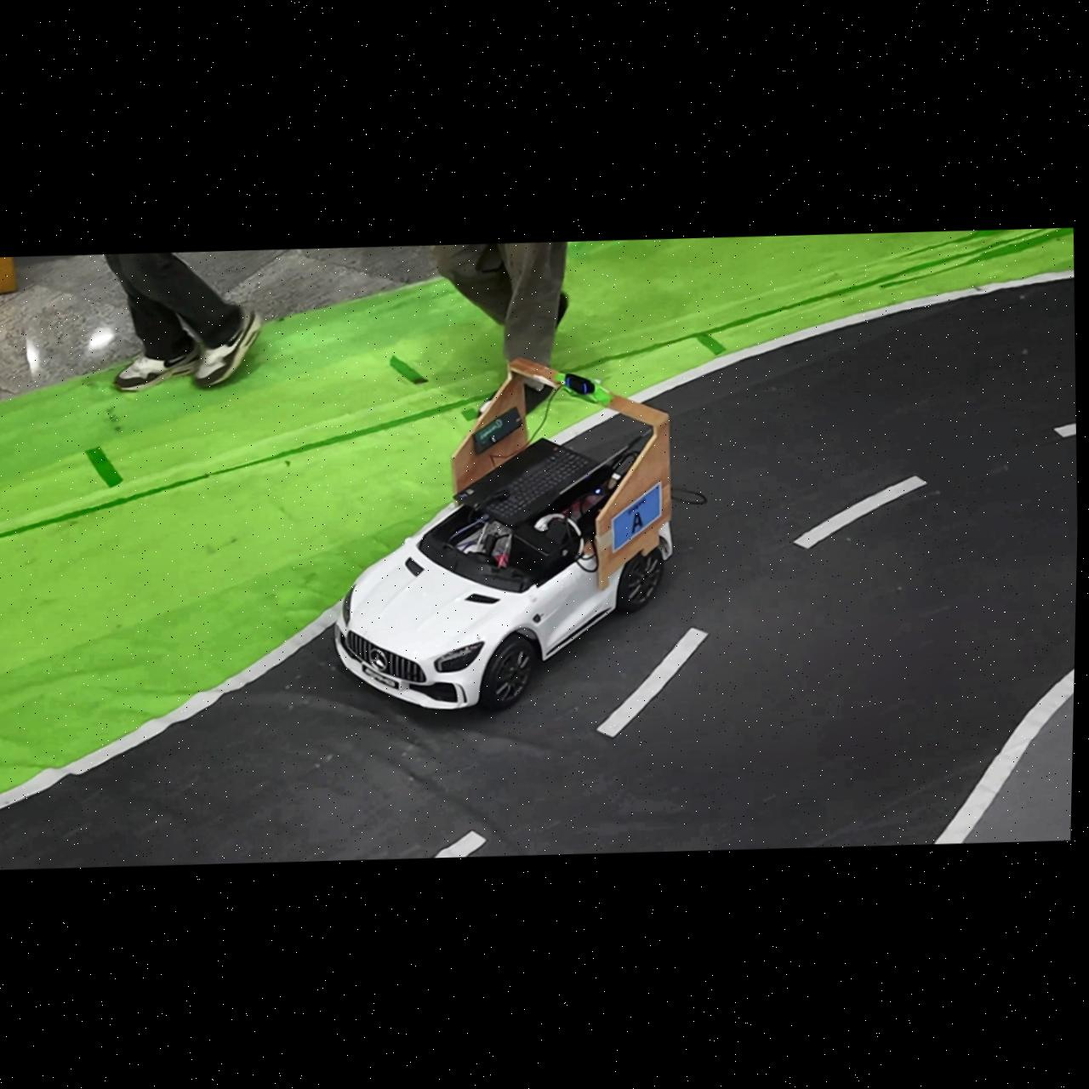broken_line: (597, 627, 708, 737), (793, 475, 927, 549), (434, 830, 487, 857), (1053, 423, 1075, 437)
